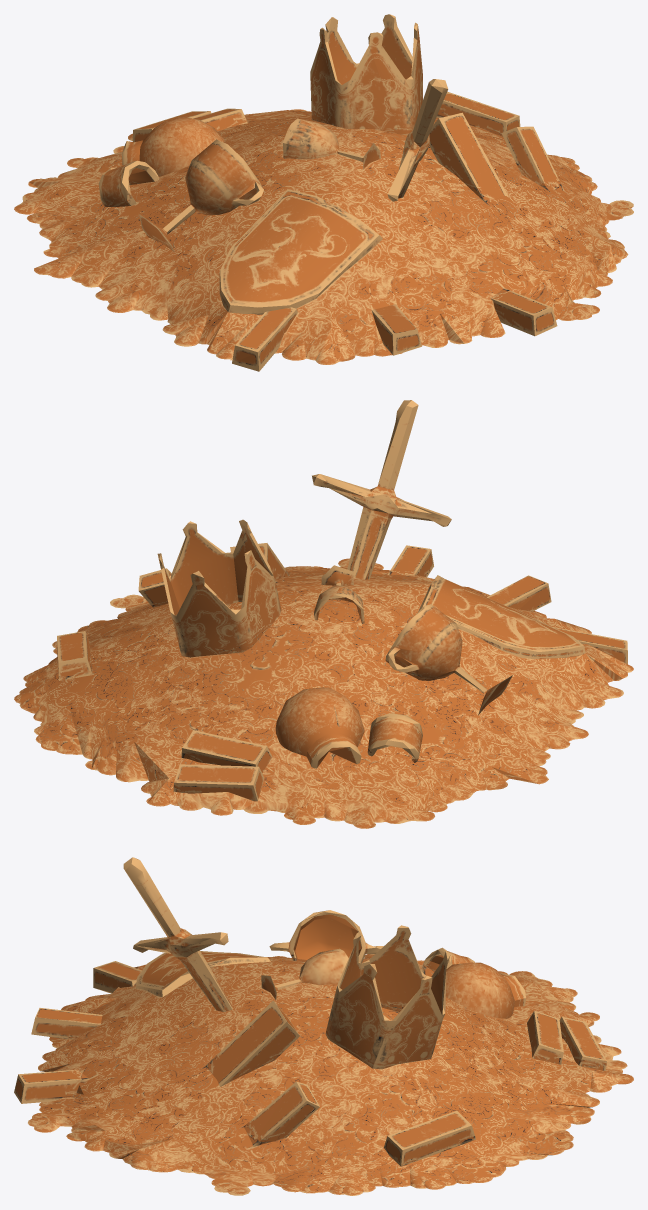
File: sb_obj_ruins008_Treasure.fbx
The picture shows the model from 3 angles, top to bottom: view 1: azimuth 30°, elevation 25°; view 2: azimuth 150°, elevation 25°; view 3: azimuth 270°, elevation 25°; orthographic projection. The views are drawn at different scales.
Parts seen in each view (by area): view 1: sb_obj_ruins008_Treasure; view 2: sb_obj_ruins008_Treasure; view 3: sb_obj_ruins008_Treasure.
Part boxes in pixels (box(x1,y1,x2,y2)): sb_obj_ruins008_Treasure: box(14, 14, 633, 371); sb_obj_ruins008_Treasure: box(14, 400, 633, 828); sb_obj_ruins008_Treasure: box(14, 857, 633, 1195).
Bounding box in the file's own units: 1.74 × 0.7387 × 1.85.
